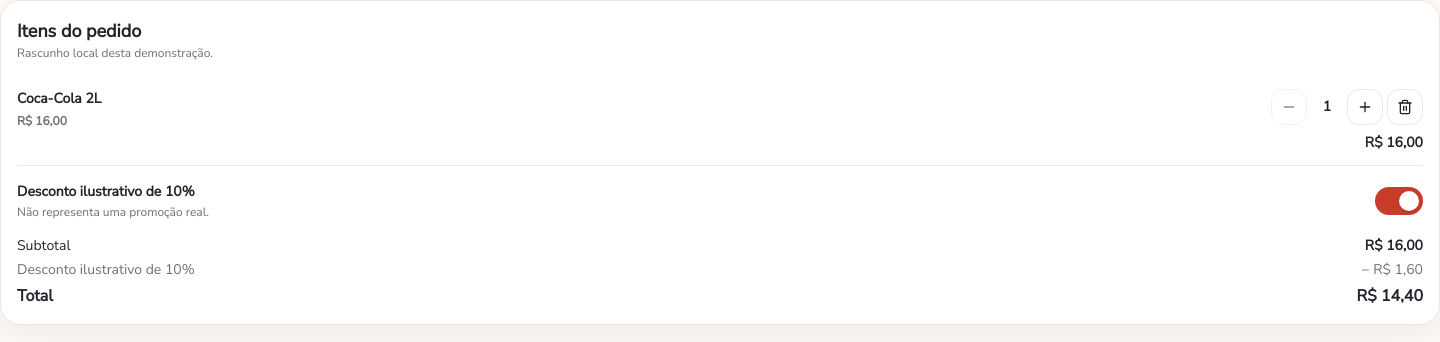
confiabilidade operacional › remove o produto com quantidade 1 e recalcula o total
This screenshot has width=1440, height=342.
Click the button named "Remover Coca-Cola 2L": (1405, 107) [1387,89,1423,125]
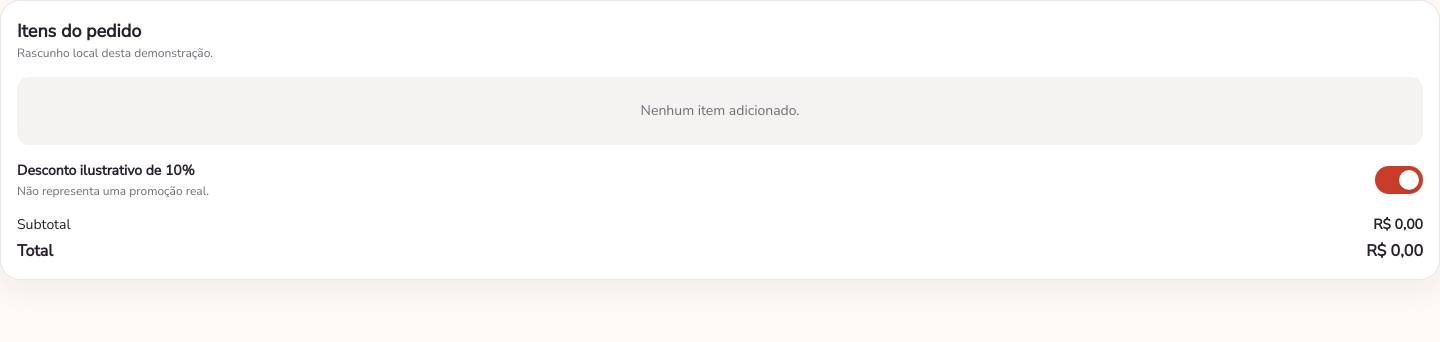
expect the text "Nenhum item adicionado." is shown: met, box [17,77,1423,145]
